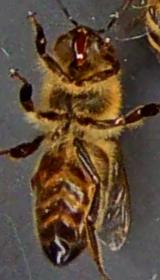varroa_mite: (19, 156, 60, 194)
